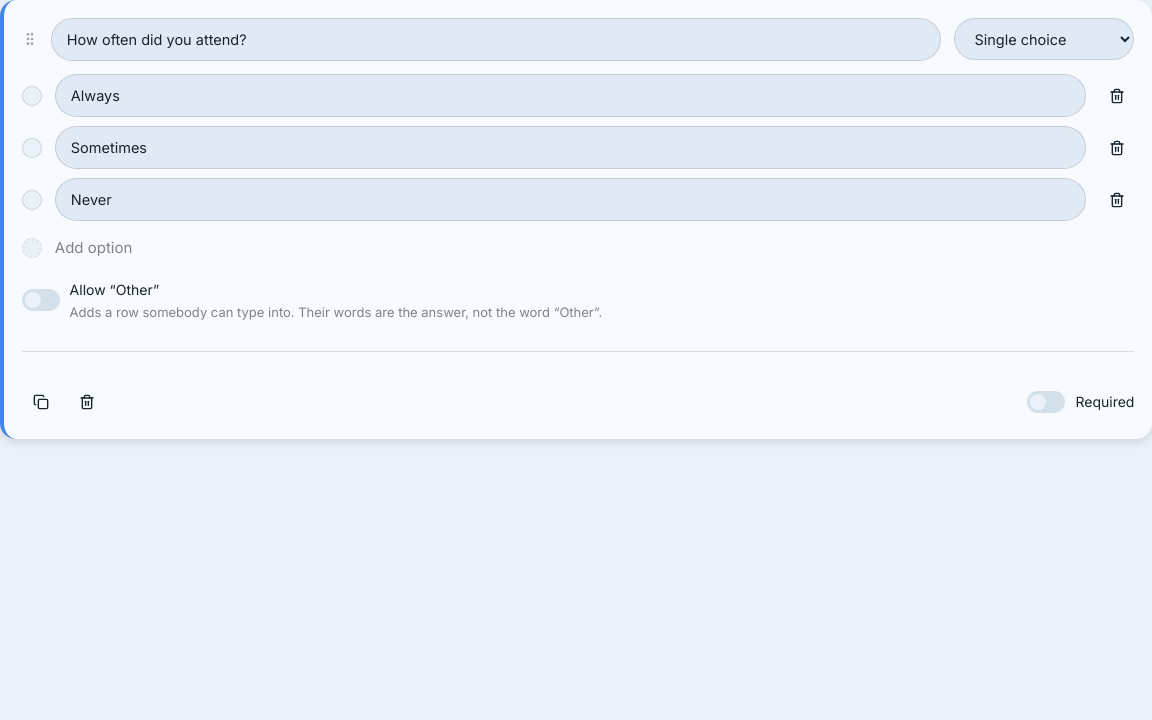
changing type warns BEFORE it costs anything › holds a lossy change, states the cost, and changes NOTHING until accepted
Select "Free text" in the dropdown named "Type of question": (1044, 39) [954,18,1134,60]
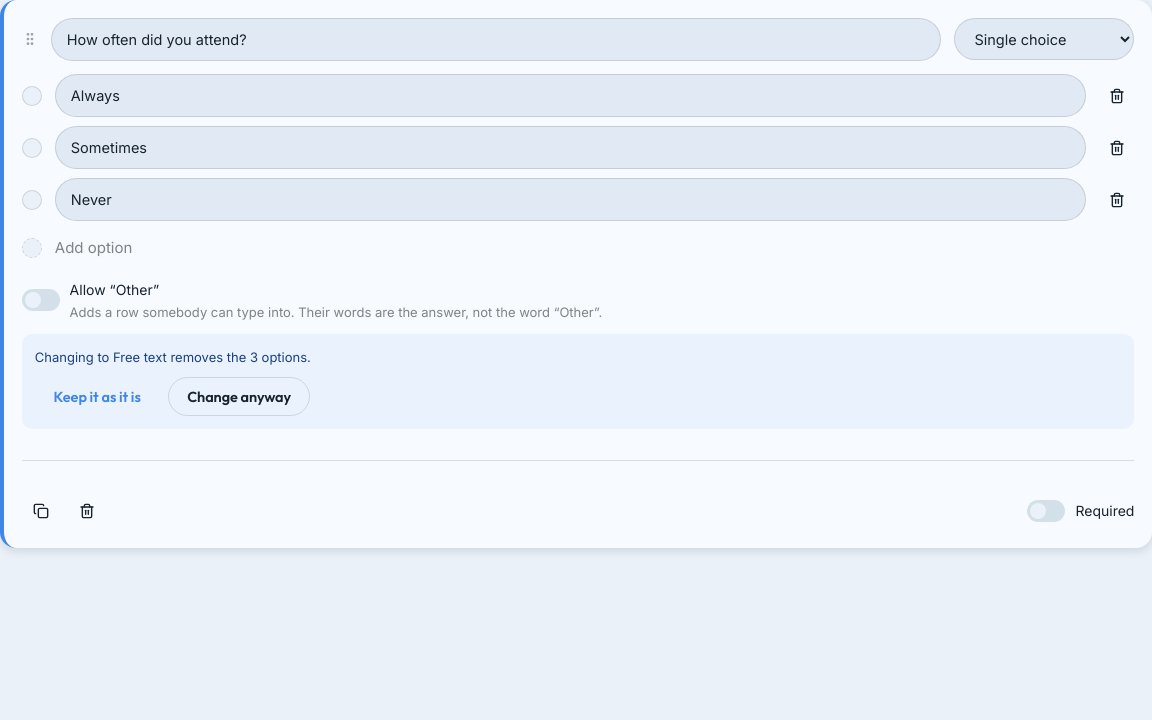
Expected: the field named "Option 1" is shown, [55,74,1086,117]
Expected: the message shows "removes the 3 options", [35,349,311,365]
